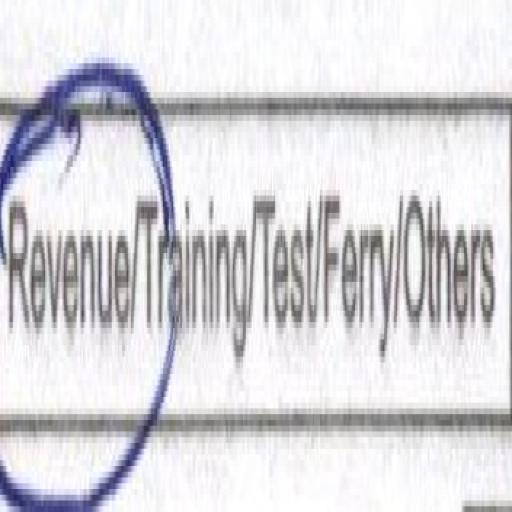check: (3, 23, 135, 512)
